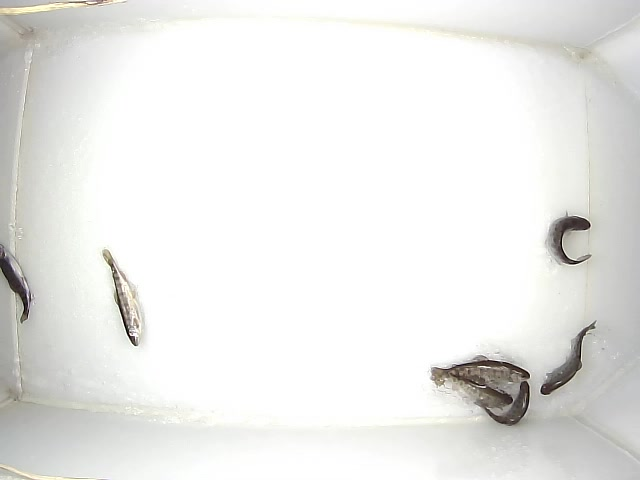fish: (540, 319, 598, 396), (102, 249, 143, 347), (443, 364, 513, 411), (431, 360, 530, 388), (545, 210, 592, 266), (473, 381, 530, 426), (1, 243, 31, 324)
